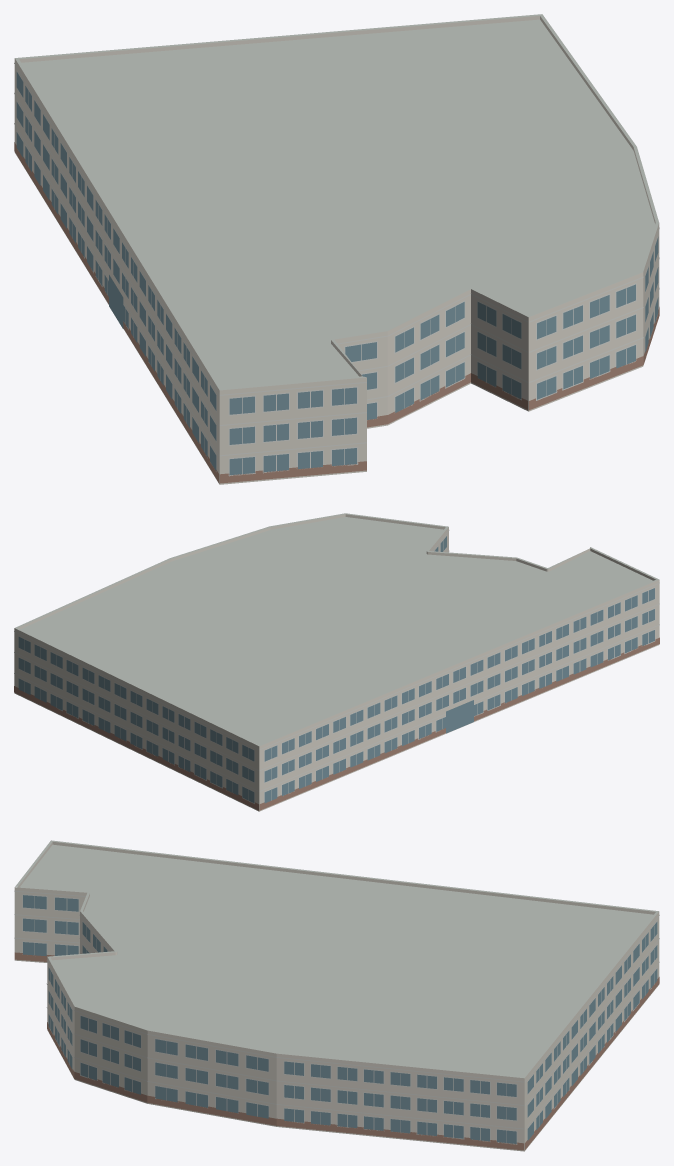
Rendered from public-7c5b9bd6-a363-47dc-8825-3706d2d4e5d7.glb.
3 views of the same model, one above another, from view 1: azimuth 30°, elevation 25°; view 2: azimuth 150°, elevation 25°; view 3: azimuth 270°, elevation 25° (orthographic). The views are drawn at different scales.
Visible parts, largest first — view 1: public-7c5b9bd6-a363-47dc-8825-3706d2d4e5d7; view 2: public-7c5b9bd6-a363-47dc-8825-3706d2d4e5d7; view 3: public-7c5b9bd6-a363-47dc-8825-3706d2d4e5d7.
Part boxes in pixels (box(x1,y1,x2,y2)): public-7c5b9bd6-a363-47dc-8825-3706d2d4e5d7: box(14, 14, 659, 484); public-7c5b9bd6-a363-47dc-8825-3706d2d4e5d7: box(14, 513, 659, 811); public-7c5b9bd6-a363-47dc-8825-3706d2d4e5d7: box(14, 840, 659, 1151).
Bounding box in the file's own units: 63.79 × 9.15 × 73.06.
